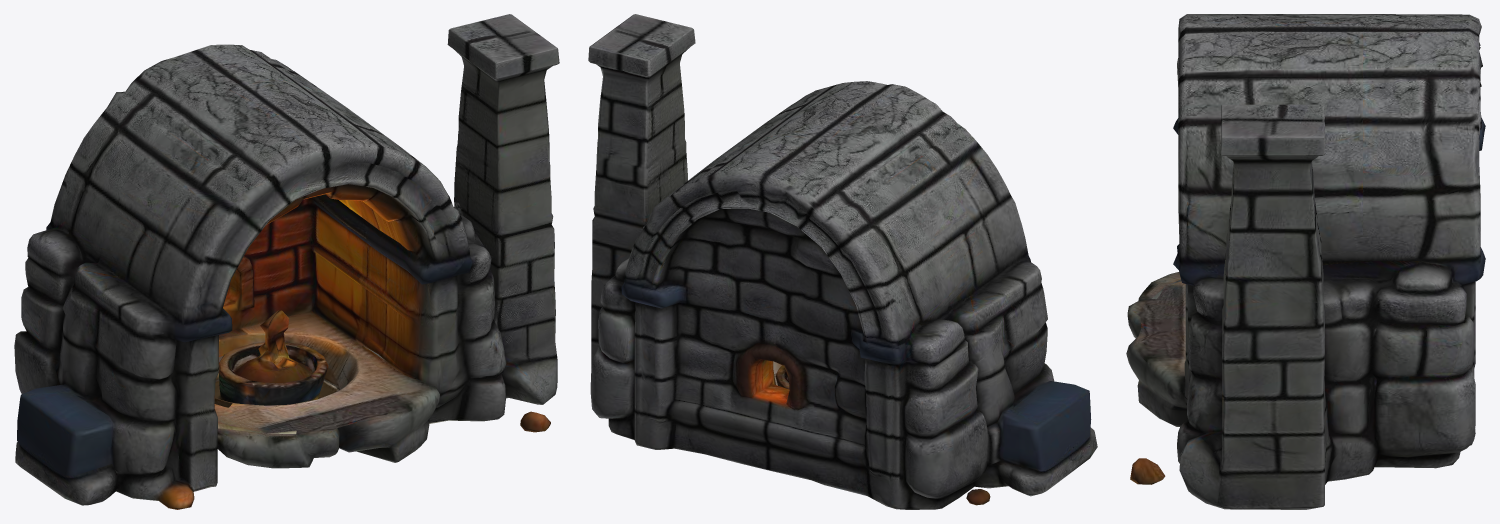
File: Furnace.glb
3 views of the same model, side by side, from view 1: azimuth 30°, elevation 25°; view 2: azimuth 150°, elevation 25°; view 3: azimuth 270°, elevation 25° (orthographic). The views are drawn at different scales.
Visible parts, largest first — view 1: Mesh_0; view 2: Mesh_0; view 3: Mesh_0.
Part boxes in pixels (left/top/right/bottom): Mesh_0: left=14, top=14, right=559, bottom=509; Mesh_0: left=588, top=14, right=1097, bottom=509; Mesh_0: left=1126, top=14, right=1485, bottom=509.
Bounding box in the file's own units: 2.86 × 1.91 × 1.67.
1 material, 1 textured.
